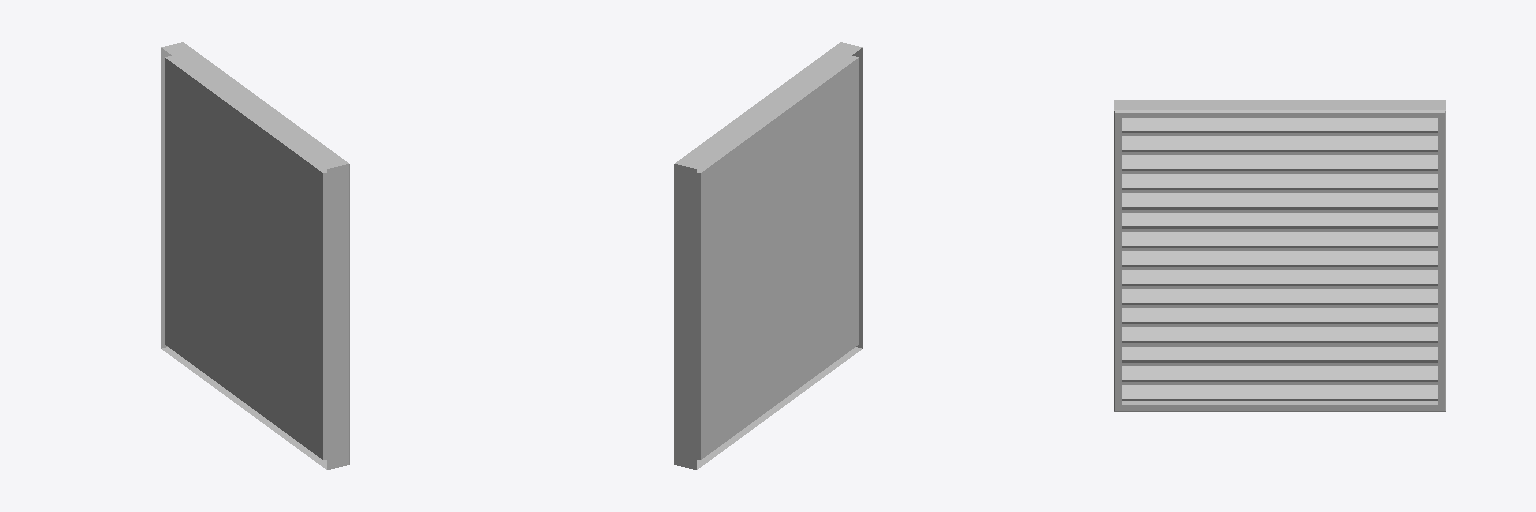
Rendered from vent_Low.obj.
3 views of the same model, side by side, from view 1: azimuth 30°, elevation 25°; view 2: azimuth 150°, elevation 25°; view 3: azimuth 270°, elevation 25° (orthographic).
Visible parts, largest first — view 1: Low; view 2: Low; view 3: Low.
Boxes of the visible parts, x1=… form: Low: x1=161, y1=42, x2=349, y2=469; Low: x1=674, y1=42, x2=862, y2=469; Low: x1=1114, y1=100, x2=1445, y2=411.
Size of the model in its own units: 0.1648 by 2 by 2.